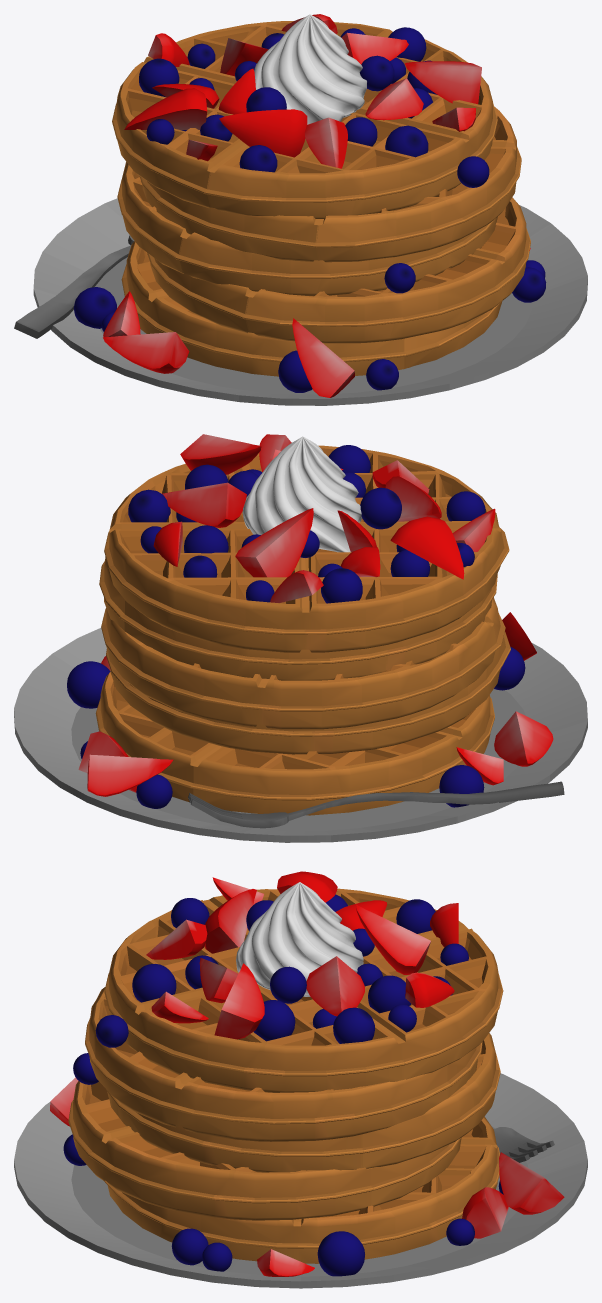
The model's file is waffle recolour .fbx.
3 renders of one model, top to bottom at view 1: azimuth 30°, elevation 25°; view 2: azimuth 150°, elevation 25°; view 3: azimuth 270°, elevation 25°, orthographic. The views are drawn at different scales.
Visible parts, largest first — view 1: BLUE_BERRRIES2_pasted__pasted__pasted__pSphere1; view 2: BLUE_BERRRIES2_pasted__pasted__pasted__pSphere1; view 3: BLUE_BERRRIES2_pasted__pasted__pasted__pSphere1.
Part boxes in pixels (x1,y1,x2,y2): BLUE_BERRRIES2_pasted__pasted__pasted__pSphere1: [14, 14, 587, 405]; BLUE_BERRRIES2_pasted__pasted__pasted__pSphere1: [14, 434, 587, 842]; BLUE_BERRRIES2_pasted__pasted__pasted__pSphere1: [14, 871, 587, 1288].
Bounding box in the file's own units: 3.16 × 1.72 × 2.94.
